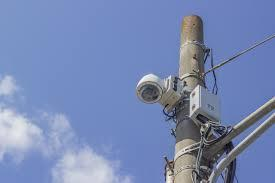maru: (133, 71, 165, 107)
